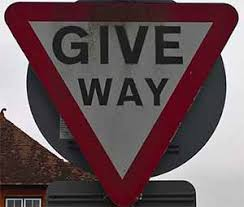giveway: (3, 1, 243, 206), (52, 1, 201, 184), (29, 43, 222, 157)
